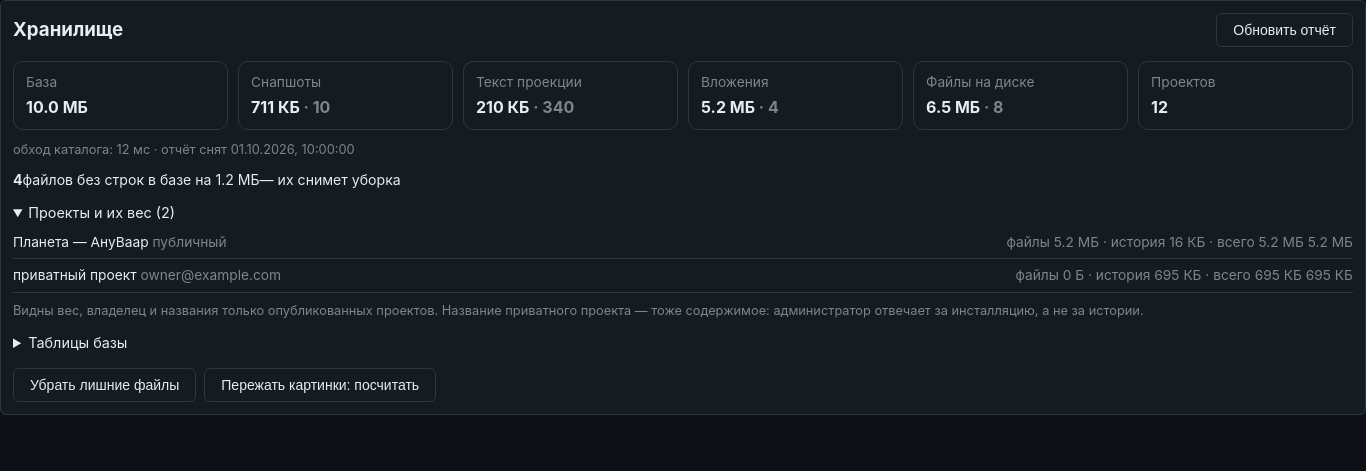
Test case: StoragePanel › уборка спрашивает подтверждение и показывает, что убрала
Expected: the element with class "admin__storage-diff" is shown, x1=13 y1=171 x2=401 y2=188
Click the button "Убрать лишние файлы": [105, 385] box x1=13 y1=368 x2=196 y2=402
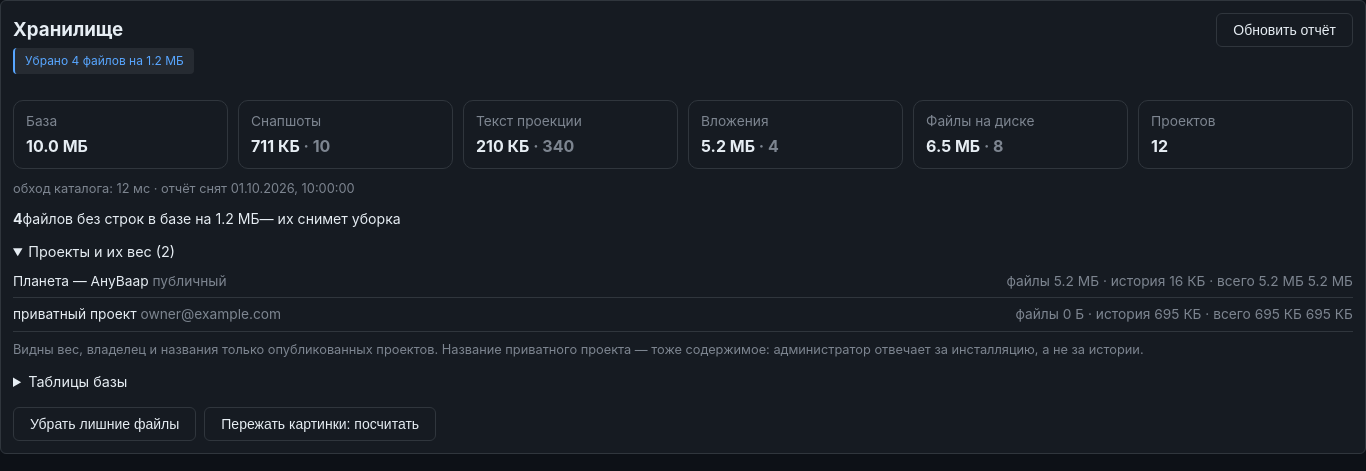
Expected: the text "Убрано 4 файлов на 1.2 МБ" is shown, x1=13 y1=48 x2=194 y2=74
